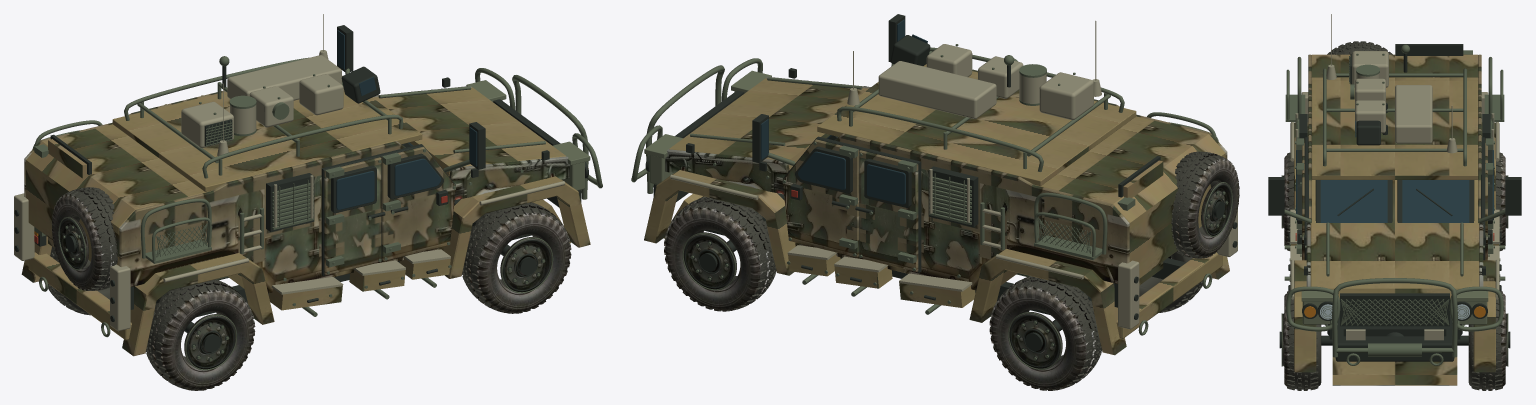
The model's file is armored-4x4.glb.
3 renders of one model, left to right at view 1: azimuth 30°, elevation 25°; view 2: azimuth 150°, elevation 25°; view 3: azimuth 270°, elevation 25°, orthographic. The views are drawn at different scales.
Parts seen in each view (by area): view 1: Armored hull surface (×2), Roof equipment rack surface (×3), Sloped engine hood surface (×3), Rear right wheel surface (×3), Front right wheel surface (×3), Front right door surface (×4), Rear right door surface (×4), Right service equipment surface (×3), Rear access and spare mount surface (×3), Grille and brush guard surface (×4), Rear spare wheel surface (×2), Rear right fender surface (+3 smaller); view 2: Armored hull surface (×2), Roof equipment rack surface (×3), Sloped engine hood surface (×3), Rear left wheel surface (×3), Front left wheel surface (×3), Front left door surface (×4), Rear left door surface (×4), Left service equipment surface (×3), Rear spare wheel surface (×2), Rear access and spare mount surface (×3), Grille and brush guard surface (×3), Rear left fender surface (+4 smaller); view 3: Grille and brush guard surface (×7), Armored hull surface (×2), Sloped engine hood surface (×3), Roof equipment rack surface (×3), Split armored windshield surface (×2), Front right wheel surface (×2), Front left wheel surface (×2), Front left fender surface, Front right fender surface, Chassis surface, Left service equipment surface (×2), Right service equipment surface (×2) (+8 smaller).
Boxes of the visible parts, x1,y1,x2,y2 form: Armored hull surface (×2): [24, 75, 443, 293]; Roof equipment rack surface (×3): [124, 14, 403, 178]; Sloped engine hood surface (×3): [372, 86, 569, 199]; Rear right wheel surface (×3): [146, 279, 255, 390]; Front right wheel surface (×3): [462, 202, 571, 313]; Front right door surface (×4): [379, 144, 455, 261]; Rear right door surface (×4): [321, 154, 385, 275]; Right service equipment surface (×3): [140, 173, 448, 263]; Rear access and spare mount surface (×3): [14, 134, 133, 340]; Grille and brush guard surface (×4): [337, 25, 602, 207]; Rear spare wheel surface (×2): [51, 187, 117, 290]; Rear right fender surface: [122, 253, 274, 356]; Armored hull surface (×2): [795, 64, 1227, 290]; Roof equipment rack surface (×3): [837, 20, 1124, 171]; Sloped engine hood surface (×3): [665, 76, 870, 194]; Rear left wheel surface (×3): [989, 276, 1101, 390]; Front left wheel surface (×3): [664, 196, 776, 311]; Front left door surface (×4): [782, 136, 861, 257]; Rear left door surface (×4): [855, 147, 921, 272]; Left service equipment surface (×3): [790, 166, 1107, 260]; Rear spare wheel surface (×2): [1171, 151, 1239, 258]; Rear access and spare mount surface (×3): [1114, 156, 1237, 338]; Grille and brush guard surface (×3): [631, 14, 905, 201]; Rear left fender surface: [969, 249, 1126, 355]; Grille and brush guard surface (×7): [1268, 177, 1521, 385]; Armored hull surface (×2): [1308, 54, 1481, 223]; Sloped engine hood surface (×3): [1305, 222, 1484, 299]; Roof equipment rack surface (×3): [1323, 14, 1466, 166]; Split armored windshield surface (×2): [1315, 180, 1474, 222]; Front right wheel surface (×2): [1282, 290, 1321, 390]; Front left wheel surface (×2): [1468, 290, 1507, 390]; Front left fender surface: [1473, 260, 1495, 372]; Front right fender surface: [1294, 260, 1316, 372]; Chassis surface: [1321, 314, 1468, 345]; Left service equipment surface (×2): [1482, 57, 1504, 244]; Right service equipment surface (×2): [1285, 57, 1307, 244].
Size of the model in its own units: 6.41 by 3.4 by 3.1.
17 materials, 3 textured.
